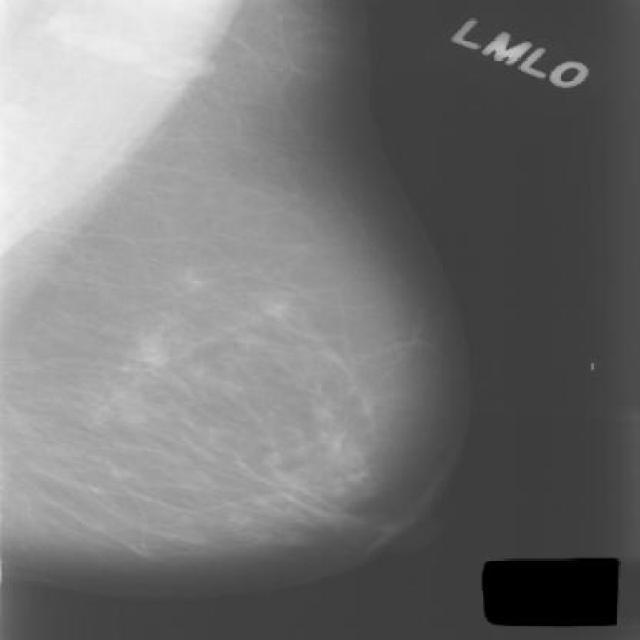tumor: (178, 326, 322, 404)
